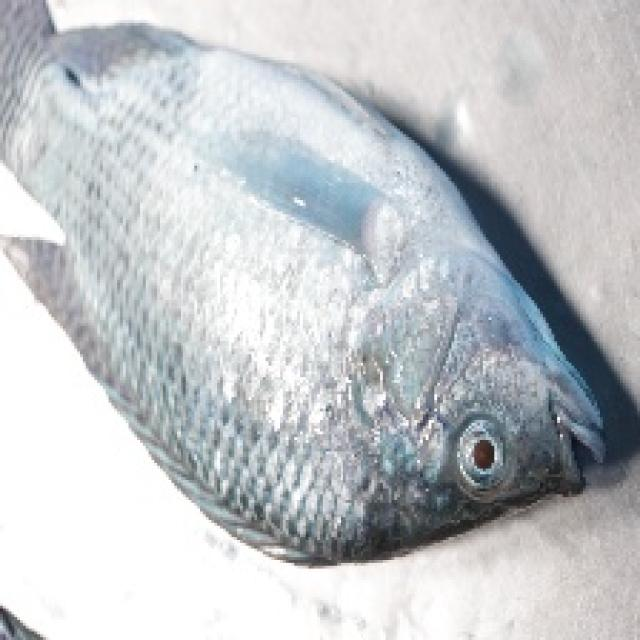Fresh: (106, 42, 620, 584)
